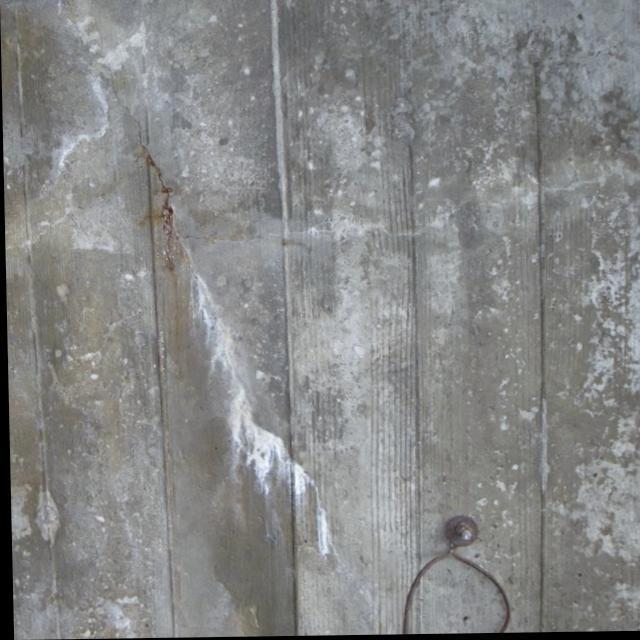D01: (190, 270, 309, 497), (318, 510, 333, 557)
